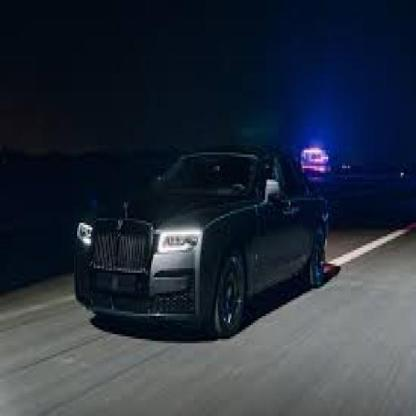car: (65, 140, 339, 346)
